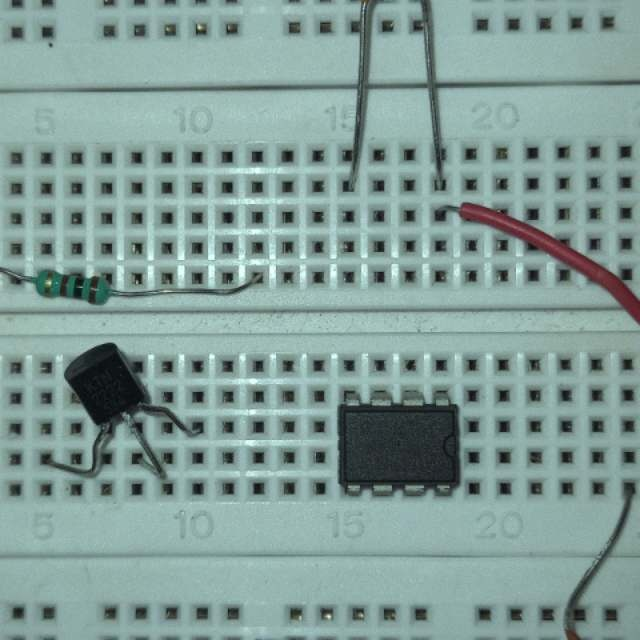resistor: (36, 267, 116, 308)
